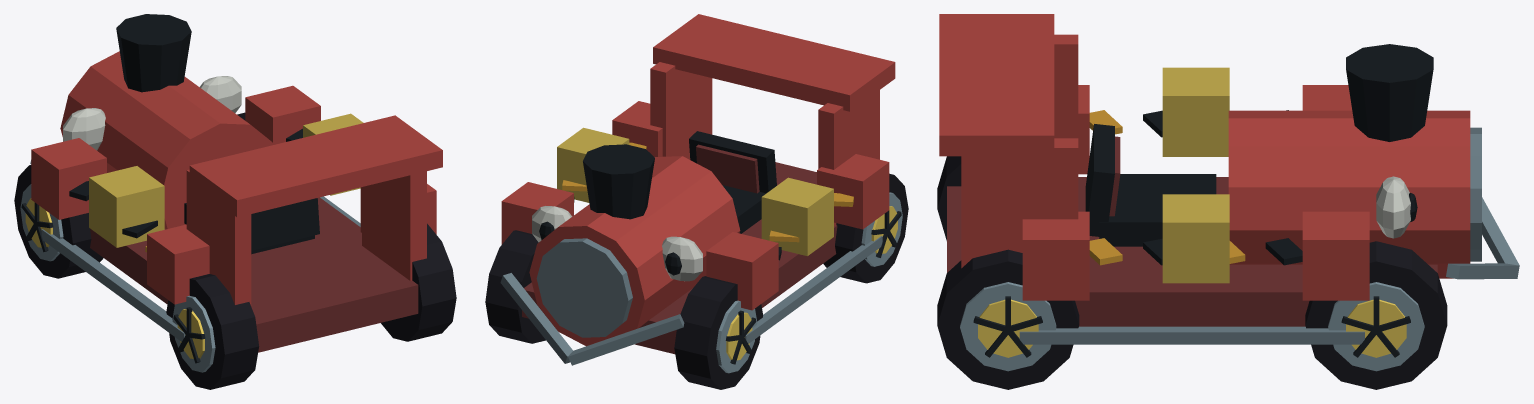
Rendered from kart.glb.
The picture shows the model from 3 angles, left to right: view 1: azimuth 30°, elevation 25°; view 2: azimuth 150°, elevation 25°; view 3: azimuth 270°, elevation 25°; orthographic projection. The views are drawn at different scales.
Visible parts, largest first — view 1: identity-train-locomotive-boiler-and-cowcatcher, identity-train-motif-blocks, wheel-rear-left, wheel-front-left, wheel-rear-right, identity-train-driver-cockpit, identity-train-motif-eyes, identity-train-motif-hazard-stripes; view 2: identity-train-locomotive-boiler-and-cowcatcher, identity-train-motif-blocks, wheel-front-left, identity-train-driver-cockpit, wheel-rear-left, wheel-front-right, identity-train-motif-eyes, identity-train-motif-hazard-stripes; view 3: identity-train-locomotive-boiler-and-cowcatcher, identity-train-motif-blocks, wheel-front-right, wheel-rear-right, identity-train-driver-cockpit, identity-train-motif-hazard-stripes, identity-train-motif-eyes, wheel-rear-left.
Part boxes in pixels (x1,y1,x2,y2): identity-train-locomotive-boiler-and-cowcatcher: (30,14,442,352); identity-train-motif-blocks: (31,85,436,304); wheel-rear-left: (166,274,259,389); wheel-front-left: (14,165,103,278); wheel-rear-right: (381,223,456,341); identity-train-driver-cockpit: (184,198,319,254); identity-train-motif-eyes: (63,76,241,150); identity-train-motif-hazard-stripes: (69,128,302,252); identity-train-locomotive-boiler-and-cowcatcher: (500,14,895,365); identity-train-motif-blocks: (501,101,889,310); wheel-front-left: (674,276,762,389); identity-train-driver-cockpit: (689,131,776,233); wheel-rear-left: (823,173,908,283); wheel-front-right: (485,230,545,343); identity-train-motif-eyes: (532,206,702,281); identity-train-motif-hazard-stripes: (562,142,853,260); identity-train-locomotive-boiler-and-cowcatcher: (939,14,1519,344); identity-train-motif-blocks: (1022,67,1369,300); wheel-front-right: (1305,241,1447,389); wheel-rear-right: (937,249,1079,389); identity-train-driver-cockpit: (1085,124,1216,246); identity-train-motif-hazard-stripes: (1089,110,1302,265); identity-train-motif-eyes: (1376,176,1417,238); wheel-rear-left: (937,156,961,240).
Bounding box in the file's own units: 1.91 × 1.49 × 3.04.
